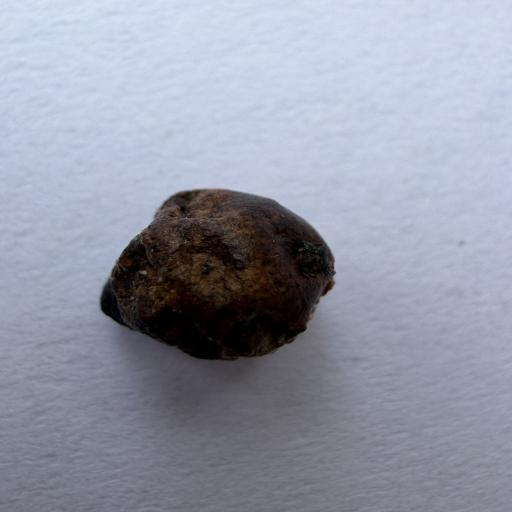Black_pepper: (80, 184, 354, 366)
